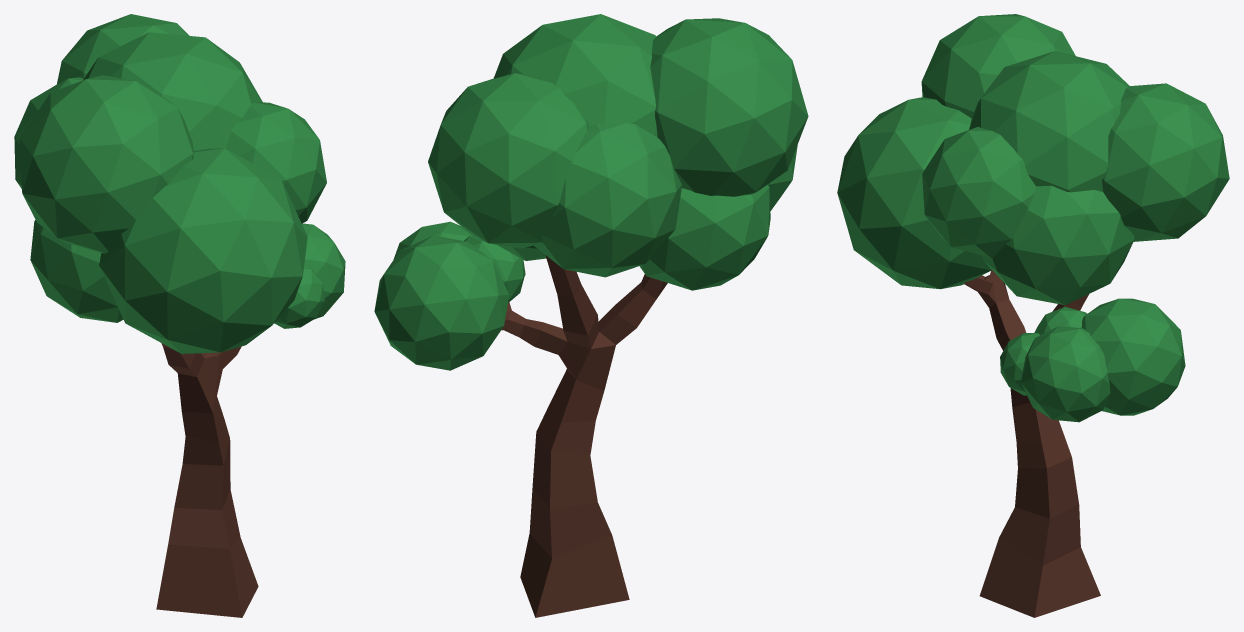
File: First_Tree.fbx
3 views of the same model, side by side, from view 1: azimuth 30°, elevation 25°; view 2: azimuth 150°, elevation 25°; view 3: azimuth 270°, elevation 25° (orthographic). The views are drawn at different scales.
Parts seen in each view (by area): view 1: Icosphere.001, Icosphere.011, TreeTrunk, Icosphere.003, Icosphere.008, Icosphere.009, Icosphere.002, Icosphere.007, Icosphere, Icosphere.010; view 2: TreeTrunk, Icosphere.011, Icosphere.002, Icosphere.010, Icosphere.005, Icosphere.003, Icosphere.009, Icosphere.006, Icosphere.007, Icosphere.001; view 3: TreeTrunk, Icosphere.001, Icosphere.002, Icosphere.003, Icosphere.004, Icosphere.008, Icosphere.005, Icosphere.011, Icosphere.007, Icosphere, Icosphere.006.
Part boxes in pixels (left/top/right/bottom): Icosphere.001: left=99, top=148, right=307, bottom=353; Icosphere.011: left=19, top=75, right=193, bottom=253; TreeTrunk: left=156, top=343, right=258, bottom=617; Icosphere.003: left=83, top=32, right=262, bottom=150; Icosphere.008: left=225, top=102, right=326, bottom=223; Icosphere.009: left=30, top=220, right=123, bottom=322; Icosphere.002: left=57, top=14, right=189, bottom=83; Icosphere.007: left=302, top=223, right=345, bottom=319; Icosphere: left=274, top=265, right=324, bottom=328; Icosphere.010: left=14, top=77, right=83, bottom=188; TreeTrunk: left=501, top=255, right=667, bottom=617; Icosphere.011: left=650, top=18, right=808, bottom=196; Icosphere.002: left=428, top=73, right=588, bottom=248; Icosphere.010: left=534, top=123, right=681, bottom=277; Icosphere.005: left=374, top=235, right=509, bottom=370; Icosphere.003: left=493, top=14, right=657, bottom=137; Icosphere.009: left=639, top=184, right=770, bottom=290; Icosphere.006: left=464, top=235, right=525, bottom=302; Icosphere.007: left=393, top=221, right=471, bottom=259; Icosphere.001: left=767, top=145, right=797, bottom=211; TreeTrunk: left=964, top=270, right=1100, bottom=617; Icosphere.001: left=837, top=97, right=991, bottom=289; Icosphere.002: left=1102, top=83, right=1229, bottom=241; Icosphere.003: left=969, top=51, right=1129, bottom=192; Icosphere.004: left=982, top=185, right=1134, bottom=305; Icosphere.008: left=922, top=126, right=1035, bottom=257; Icosphere.005: left=1081, top=298, right=1185, bottom=415; Icosphere.011: left=921, top=14, right=1075, bottom=118; Icosphere.007: left=1021, top=326, right=1110, bottom=422; Icosphere: left=1000, top=333, right=1039, bottom=395; Icosphere.006: left=1034, top=307, right=1087, bottom=335.
Bounding box in the file's own units: 779 × 1204 × 822.
